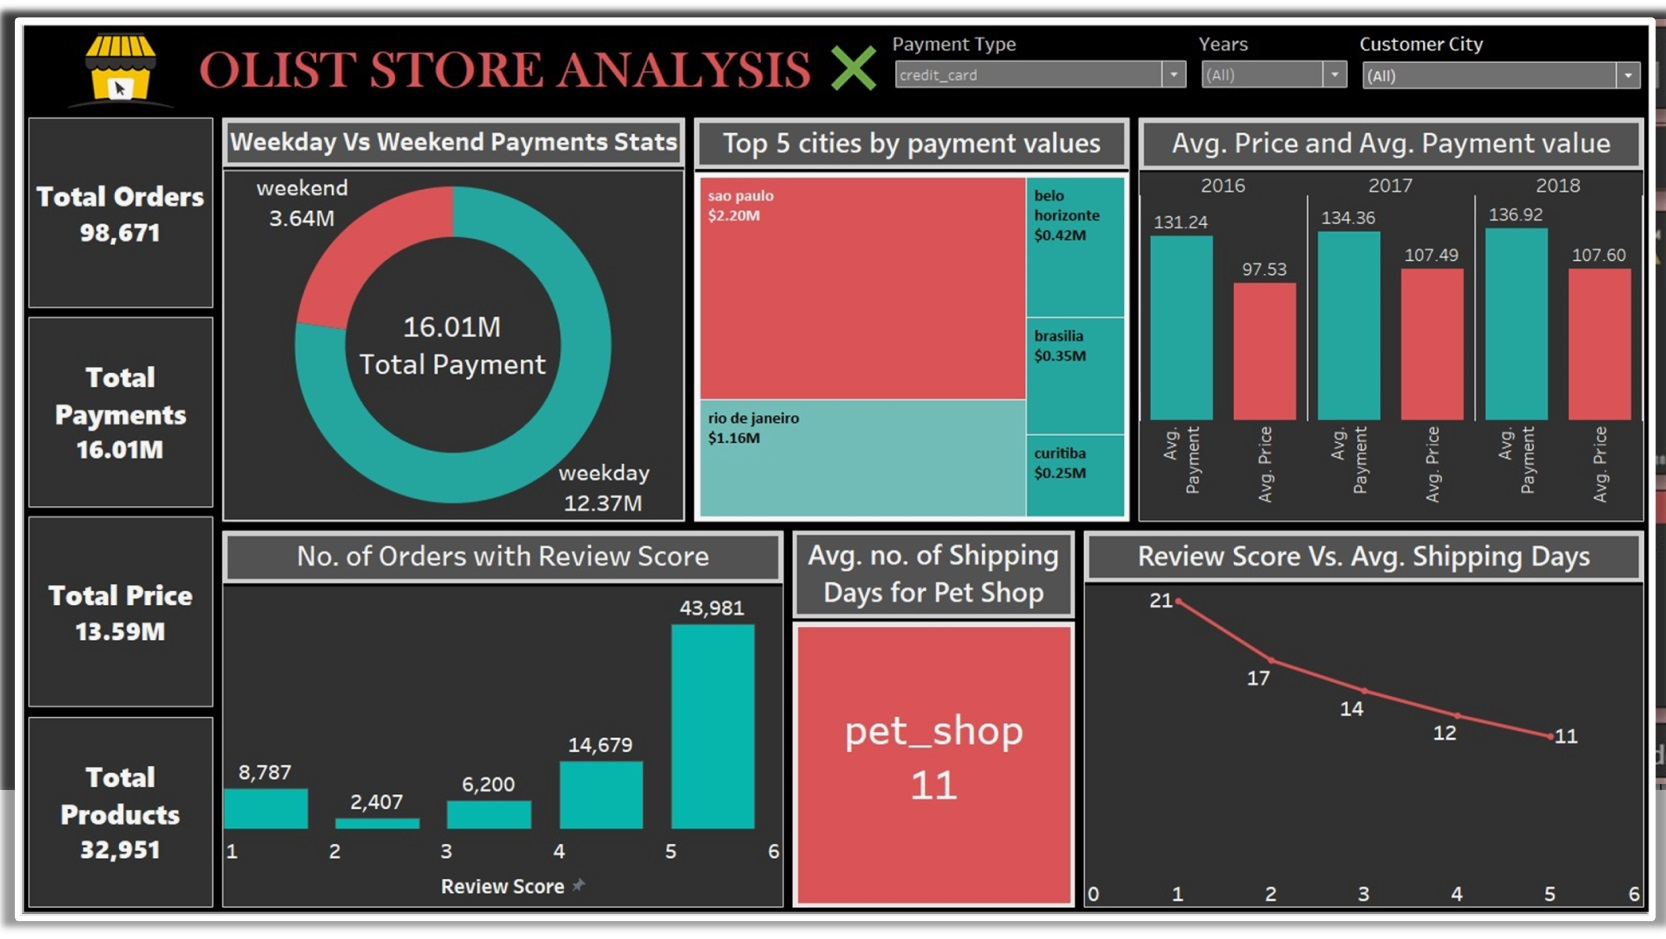

The page's visual inventory and layout, read from the dashboard file:
{"tool":"tableau","page":{"name":"Dashboard 1","canvas":[1500,825],"ordinal":0},"visuals":[{"type":"image","param":"Image/logo.png","box":[8,8,177,80]},{"type":"blank","box":[185,8,612,80]},{"type":"filter","title":"KPI 2","param":"[federated.1v7ubre016np7q180fmtm0u4v7i0].[none:payment_type:nk]","box":[797,8,280,80]},{"type":"filter","title":"KPI 1","param":"[federated.1v7ubre016np7q180fmtm0u4v7i0].[yr:order_purchase_timestamp:ok]","box":[1077,8,147,80]},{"type":"filter","title":"KPI 5","param":"[federated.1v7ubre016np7q180fmtm0u4v7i0].[none:customer_city:nk]","box":[1224,8,268,80]},{"type":"text","box":[155,14,584,72]},{"type":"dashboard-object","box":[738,16,55,62]},{"type":"worksheet","title":"Sheet 7","mark":"Automatic","box":[8,88,177,182.2]},{"type":"worksheet","title":"KPI 1","mark":"Pie","rows":["Calculation_2102618134568779776","Calculation_2102618134568779776"],"box":[185,88,431,377]},{"type":"worksheet","title":"Sheet 6","mark":"Automatic","box":[616,88,406,377]},{"type":"worksheet","title":"KPI 4","mark":"Bar","cols":["order_purchase_timestamp"],"box":[1022,88,470,377]},{"type":"worksheet","title":"Sheet 7 (2)","mark":"Automatic","box":[8,270.2,177,182.2]},{"type":"worksheet","title":"Sheet 7 (3)","mark":"Automatic","box":[8,452.5,177,182.2]},{"type":"worksheet","title":"KPI 2","mark":"Bar","rows":["order_id"],"cols":["review_score"],"box":[185,465,521,352]},{"type":"worksheet","title":"KPI 3","mark":"Automatic","box":[706,465,266.4,352]},{"type":"worksheet","title":"KPI 5","mark":"Automatic","rows":["number_of_days"],"cols":["review_score"],"box":[972.4,465,519.6,352]},{"type":"worksheet","title":"Sheet 7 (4)","mark":"Automatic","box":[8,634.7,177,182.2]}]}

Visuals, with their boxes in screenshot pixels (x1, y1, x2, y2), scaled from the page's 1500x825 canvas onto the 1666x939 screenshot:
image: <box>9,9,205,100</box>
blank: <box>205,9,885,100</box>
"KPI 2" filter: <box>885,9,1196,100</box>
"KPI 1" filter: <box>1196,9,1359,100</box>
"KPI 5" filter: <box>1359,9,1657,100</box>
text: <box>172,16,821,98</box>
dashboard-object: <box>820,18,881,89</box>
"Sheet 7" worksheet: <box>9,100,205,308</box>
"KPI 1" worksheet (Pie marks): <box>205,100,684,529</box>
"Sheet 6" worksheet: <box>684,100,1135,529</box>
"KPI 4" worksheet (Bar marks): <box>1135,100,1657,529</box>
"Sheet 7 (2)" worksheet: <box>9,308,205,515</box>
"Sheet 7 (3)" worksheet: <box>9,515,205,722</box>
"KPI 2" worksheet (Bar marks): <box>205,529,784,930</box>
"KPI 3" worksheet: <box>784,529,1080,930</box>
"KPI 5" worksheet: <box>1080,529,1657,930</box>
"Sheet 7 (4)" worksheet: <box>9,722,205,930</box>
